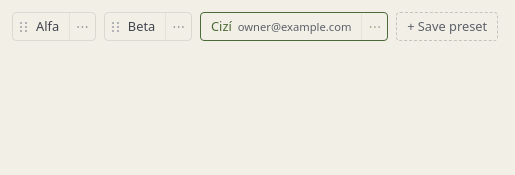
Test: <SavedSetBar> menus › gives an own chip Edit, the instance entries, then a two-step Delete
This screenshot has width=515, height=175.
What coordinates should you click on to do the following:
click the 1st button "⋯"
I would click on:
 (82, 27)
Its box is [69, 13, 95, 40].
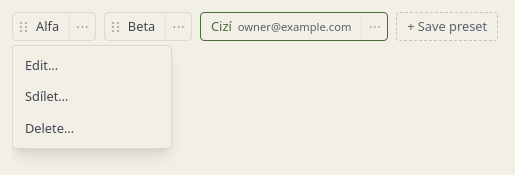
Expected: the menu items read "Edit…", "Sdílet…", "Delete…", in this order
What coordinates should you click on to do the following:
click the menu item "Delete…"
I would click on:
 (92, 128)
Its box is [13, 113, 171, 144].
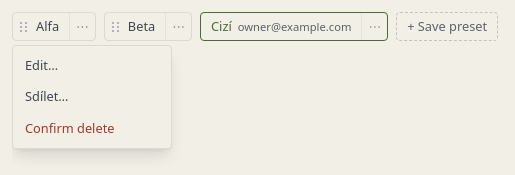
What coordinates should you click on to do the following:
click the menu item "Confirm delete"
I would click on:
 (92, 128)
Its box is [13, 113, 171, 144].
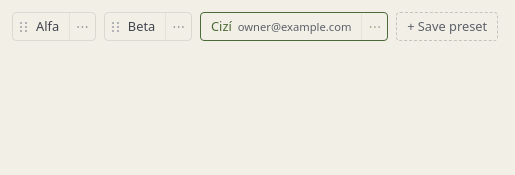
Expected: the menu is gone
